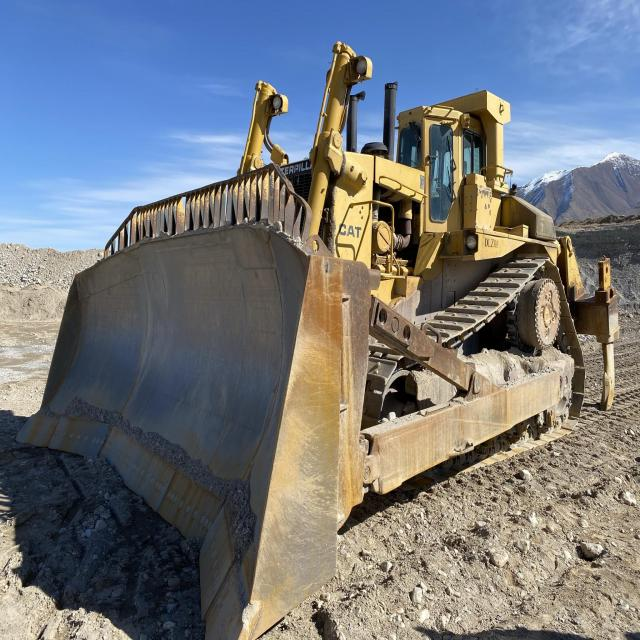Bulldozer: (57, 36, 578, 635)
